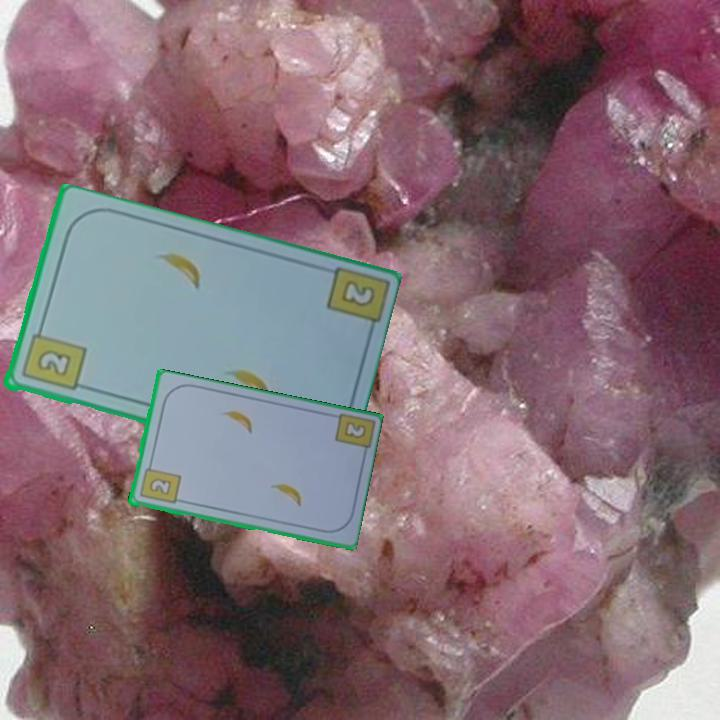2b: (17, 322, 88, 394), (136, 459, 183, 507), (341, 280, 375, 308), (342, 420, 367, 440)
